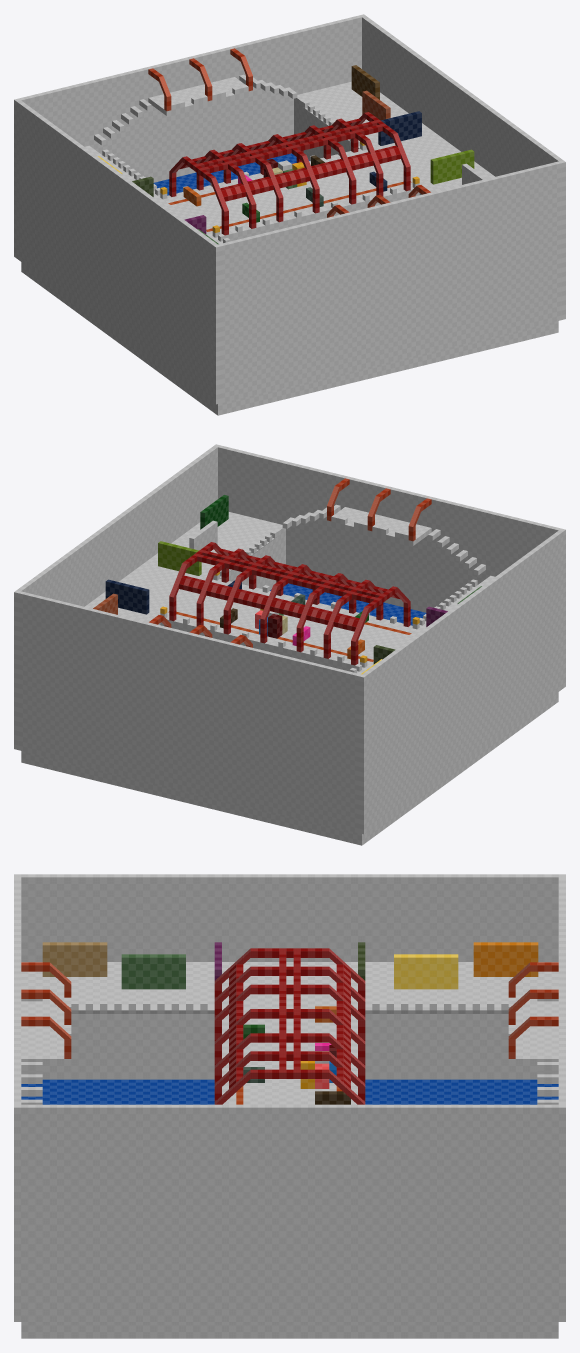
File: Bridge.obj
3 renders of one model, top to bottom at view 1: azimuth 30°, elevation 25°; view 2: azimuth 150°, elevation 25°; view 3: azimuth 270°, elevation 25°, orthographic. The views are drawn at different scales.
Visible parts, largest first — view 1: Brick882, Brick864, Brick876, Brick870, Base1, Brick901, Brick888, Brick60, Brick742, Brick309, Water1, Brick92 (+7 smaller); view 2: Brick876, Brick864, Brick882, Brick870, Base1, Brick901, Brick888, Brick32, Brick785, Brick328, Water1, Brick104 (+8 smaller); view 3: Brick870, Brick864, Brick895, Water1, Base1, Brick888, Brick742, Brick785, Brick122, Brick128, Brick110, Brick116 (+15 smaller).
Part boxes in pixels (left/top/right/bottom): Brick882: left=218, top=161, right=561, bottom=403; Brick864: left=14, top=98, right=220, bottom=404; Brick876: left=19, top=15, right=361, bottom=182; Brick870: left=360, top=14, right=565, bottom=319; Base1: left=21, top=262, right=558, bottom=415; Brick901: left=294, top=81, right=494, bottom=194; Brick888: left=171, top=163, right=403, bottom=229; Brick60: left=220, top=187, right=419, bottom=241; Brick742: left=148, top=77, right=252, bottom=115; Brick309: left=216, top=146, right=405, bottom=198; Water1: left=153, top=153, right=309, bottom=195; Brick92: left=430, top=149, right=474, bottom=184; Brick876: left=18, top=591, right=361, bottom=833; Brick864: left=359, top=528, right=565, bottom=834; Brick882: left=218, top=445, right=560, bottom=612; Brick870: left=14, top=444, right=219, bottom=749; Base1: left=21, top=692, right=558, bottom=845; Brick901: left=85, top=512, right=285, bottom=624; Brick888: left=176, top=593, right=408, bottom=659; Brick32: left=160, top=617, right=359, bottom=671; Brick785: left=327, top=507, right=431, bottom=545; Brick328: left=174, top=576, right=363, bottom=628; Water1: left=270, top=583, right=426, bottom=625; Brick104: left=105, top=579, right=149, bottom=614; Brick870: left=14, top=1104, right=565, bottom=1321; Brick864: left=14, top=874, right=565, bottom=961; Brick895: left=21, top=962, right=558, bottom=1079; Water1: left=21, top=1079, right=558, bottom=1104; Base1: left=21, top=1322, right=558, bottom=1338; Brick888: left=243, top=1007, right=336, bottom=1104; Brick742: left=508, top=1001, right=558, bottom=1065; Brick785: left=21, top=1001, right=71, bottom=1065; Brick122: left=394, top=954, right=458, bottom=989; Brick128: left=121, top=954, right=185, bottom=989; Brick110: left=42, top=942, right=107, bottom=976; Brick116: left=473, top=942, right=538, bottom=976.
Size of the model in its own units: 308 by 144 by 308.
